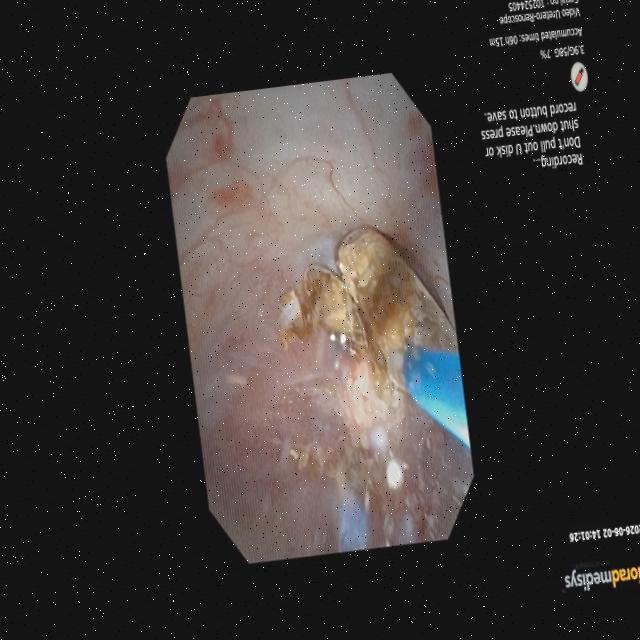laser-fibre: (383, 347, 408, 390)
stone-new: (337, 227, 457, 375), (302, 265, 366, 359), (278, 289, 312, 349)
